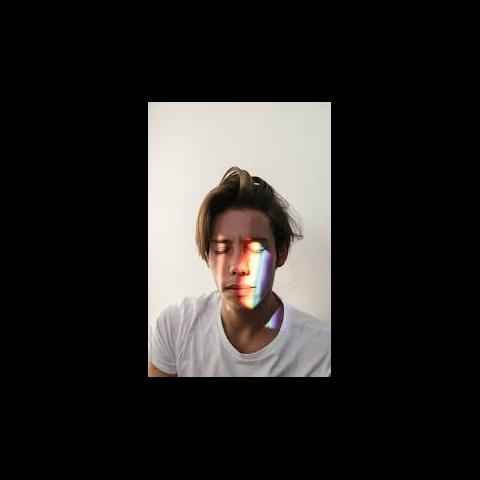closed: (191, 231, 290, 262)
